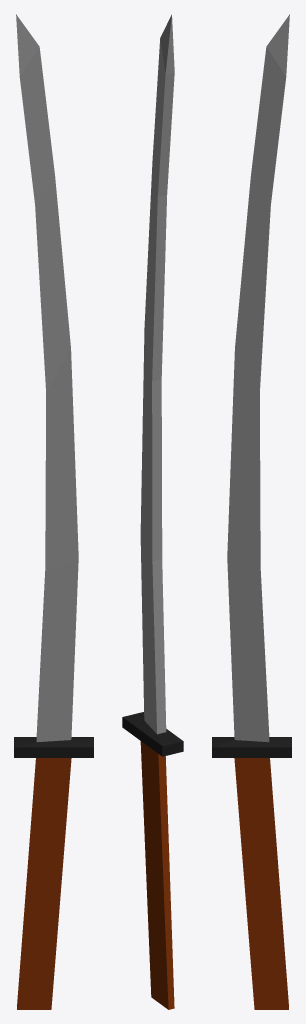
File: odachi.obj
The picture shows the model from 3 angles, left to right: view 1: azimuth 90°, elevation 25°; view 2: azimuth 210°, elevation 25°; view 3: azimuth 270°, elevation 25°; orthographic projection.
Visible parts, largest first — view 1: odachi; view 2: odachi; view 3: odachi.
Part boxes in pixels (x1,y1,x2,y2): odachi: (14, 14, 93, 1009); odachi: (122, 14, 183, 1009); odachi: (212, 14, 291, 1009).
Bounding box in the file's own units: 0.0194 × 0.8758 × 0.0638.
